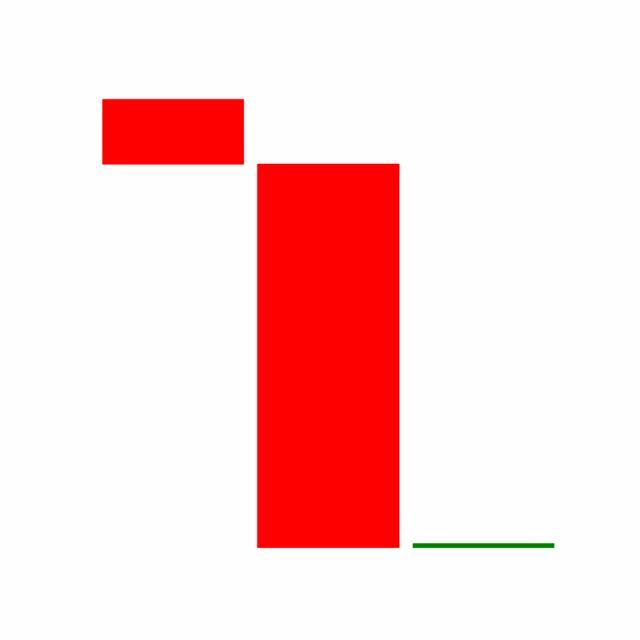Marubozu: (250, 160, 407, 552)
